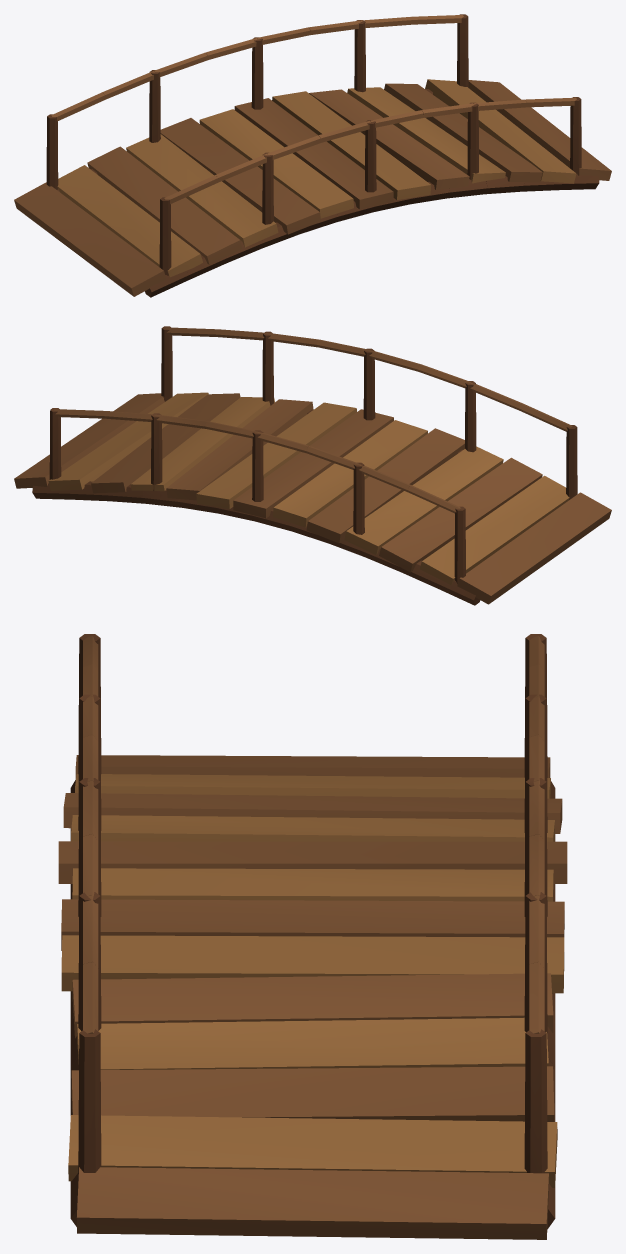
File: bridge.glb
The picture shows the model from 3 angles, top to bottom: view 1: azimuth 30°, elevation 25°; view 2: azimuth 150°, elevation 25°; view 3: azimuth 270°, elevation 25°; orthographic projection. The views are drawn at different scales.
Parts seen in each view (by area): view 1: Bridge; view 2: Bridge; view 3: Bridge.
Boxes of the visible parts, left/top/right/bottom form: Bridge: left=14, top=14, right=611, bottom=297; Bridge: left=14, top=326, right=611, bottom=605; Bridge: left=58, top=634, right=567, bottom=1239.
Size of what is drawn, in the model's own units: 5.22 by 1.23 by 2.4.
